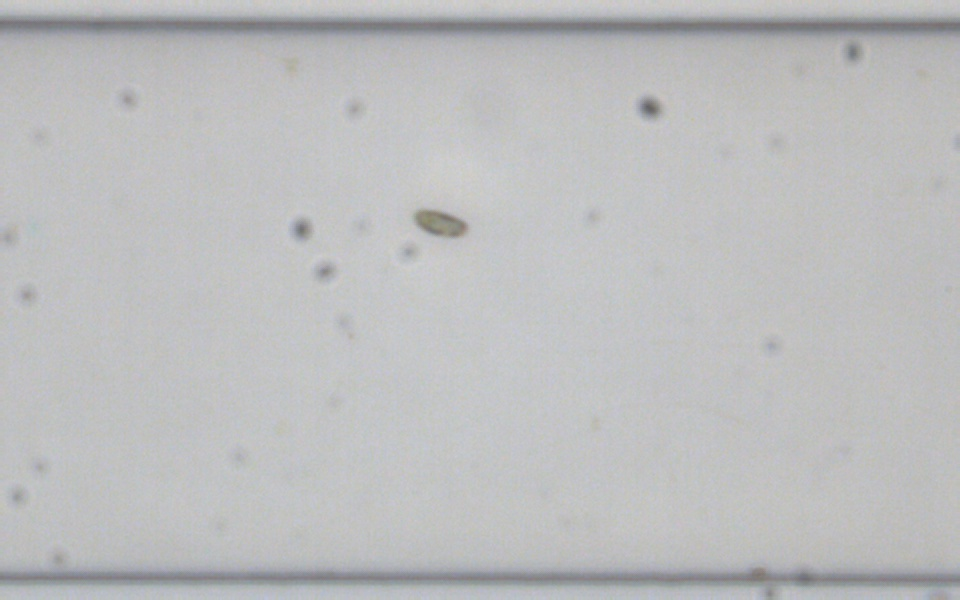Dunaliella salina: (410, 205, 468, 241)
